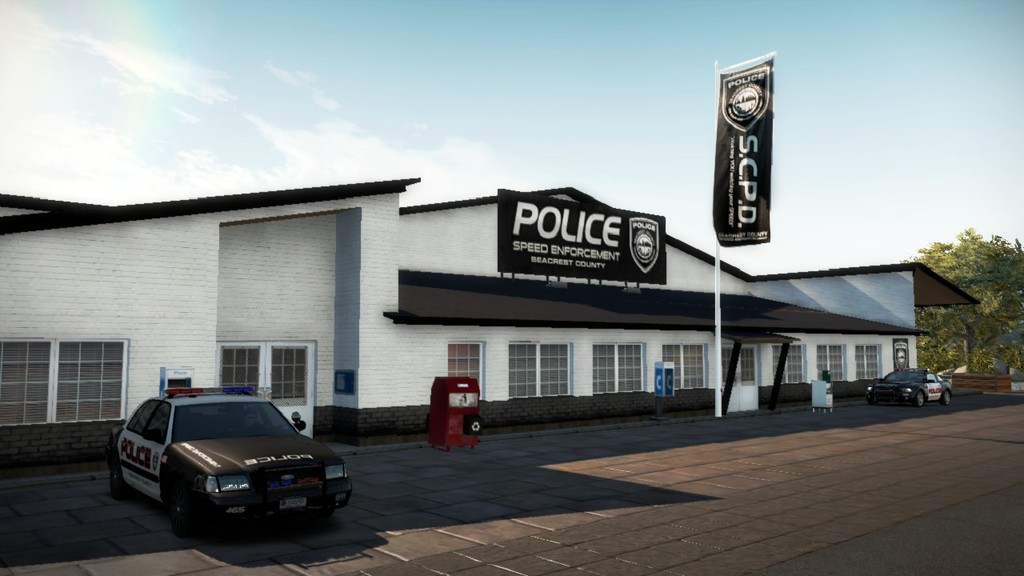mobil: (129, 388, 358, 531)
